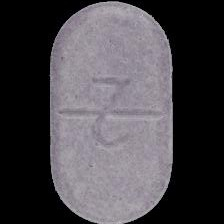62584-984: (0, 0, 224, 224)
